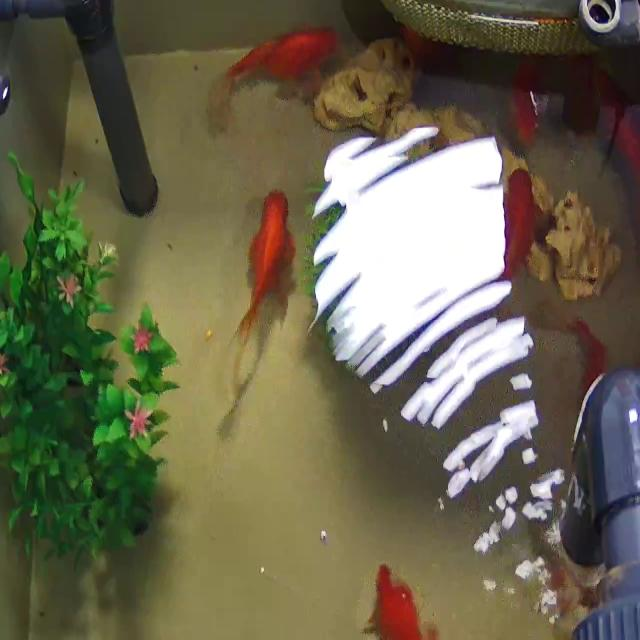fish: (208, 10, 337, 124), (232, 178, 292, 380), (357, 558, 498, 640), (484, 160, 560, 306), (588, 68, 640, 224), (503, 58, 549, 140)
